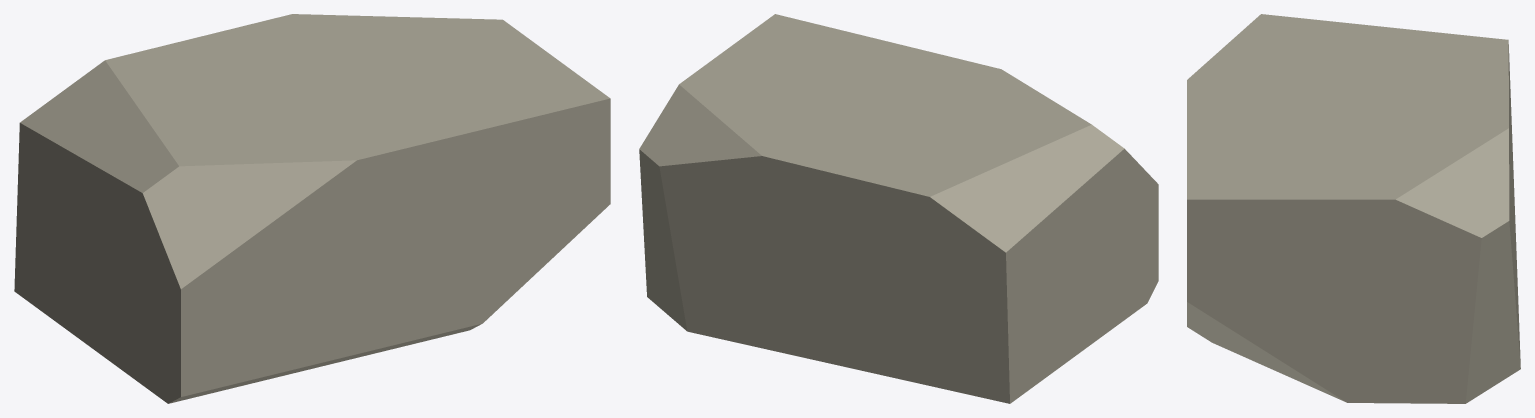
Rendered from Rock2_tex.fbx.
3 renders of one model, left to right at view 1: azimuth 30°, elevation 25°; view 2: azimuth 150°, elevation 25°; view 3: azimuth 270°, elevation 25°, orthographic. The views are drawn at different scales.
Visible parts, largest first — view 1: Rock2_tex; view 2: Rock2_tex; view 3: Rock2_tex.
Part boxes in pixels (left/top/right/bottom): Rock2_tex: left=14, top=14, right=610, bottom=403; Rock2_tex: left=639, top=14, right=1158, bottom=403; Rock2_tex: left=1187, top=14, right=1520, bottom=403.
Size of the model in its own units: 0.6415 by 0.3017 by 0.446.
